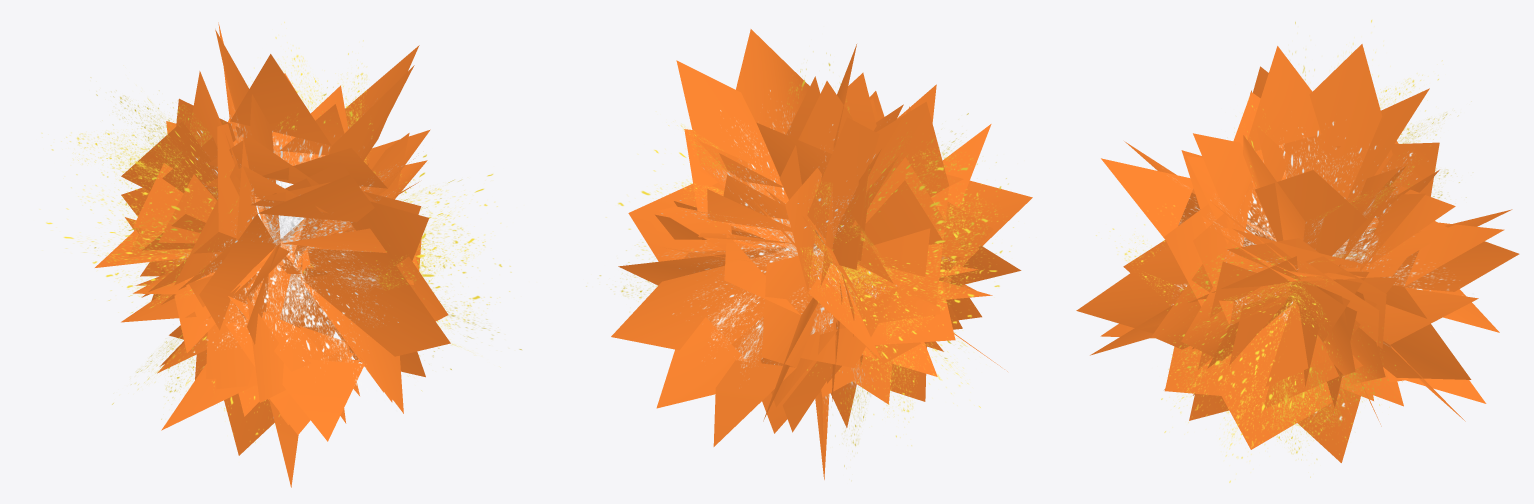
The model's file is sparksexplosion_clean.glb.
3 views of the same model, side by side, from view 1: azimuth 30°, elevation 25°; view 2: azimuth 150°, elevation 25°; view 3: azimuth 270°, elevation 25° (orthographic). The views are drawn at different scales.
Visible parts, largest first — view 1: Plane 1_0; view 2: Plane 1_0; view 3: Plane 1_0.
Boxes of the visible parts, x1,y1,x2,y2 form: Plane 1_0: (41,22,521,487); Plane 1_0: (586,29,1032,480); Plane 1_0: (1076,20,1519,482).
Size of the model in its own units: 1 by 0.9127 by 0.8711.
3 materials, 3 textured.
